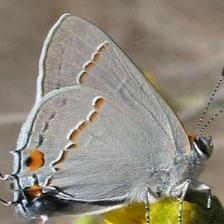butterfly: (0, 13, 213, 220)
